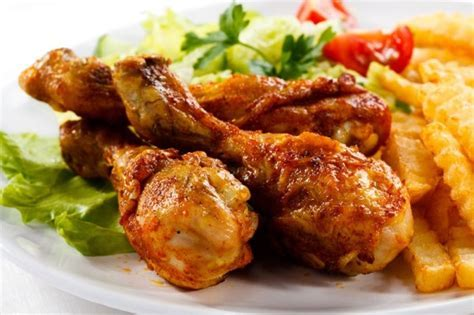inorganic: (25, 24, 456, 282)
